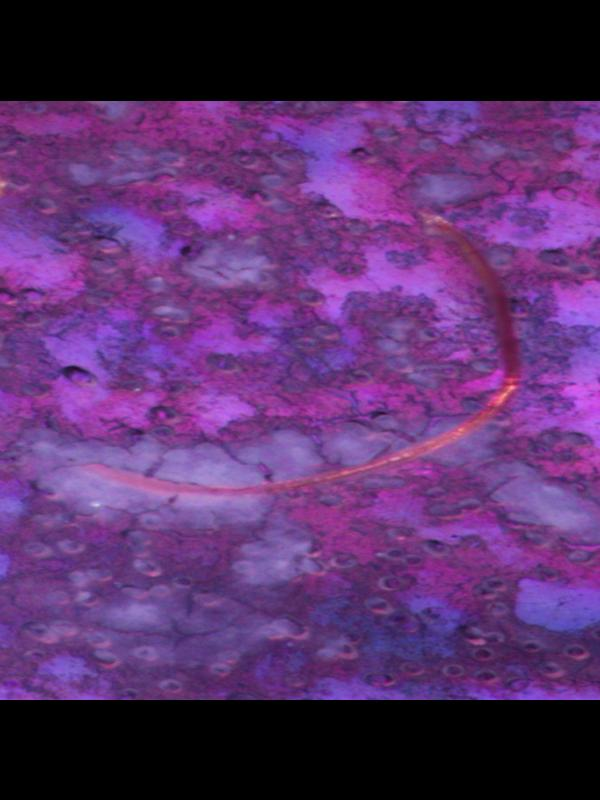microplastic: (0, 102, 600, 699), (39, 208, 524, 501)
